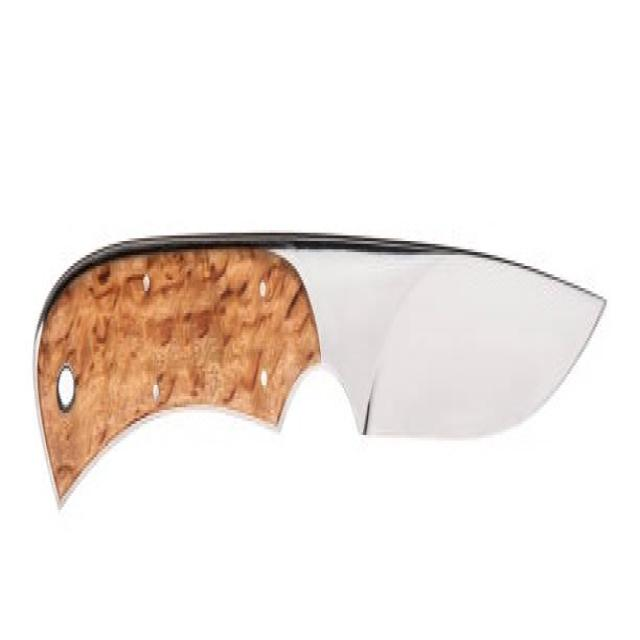knife: (25, 226, 610, 514)
